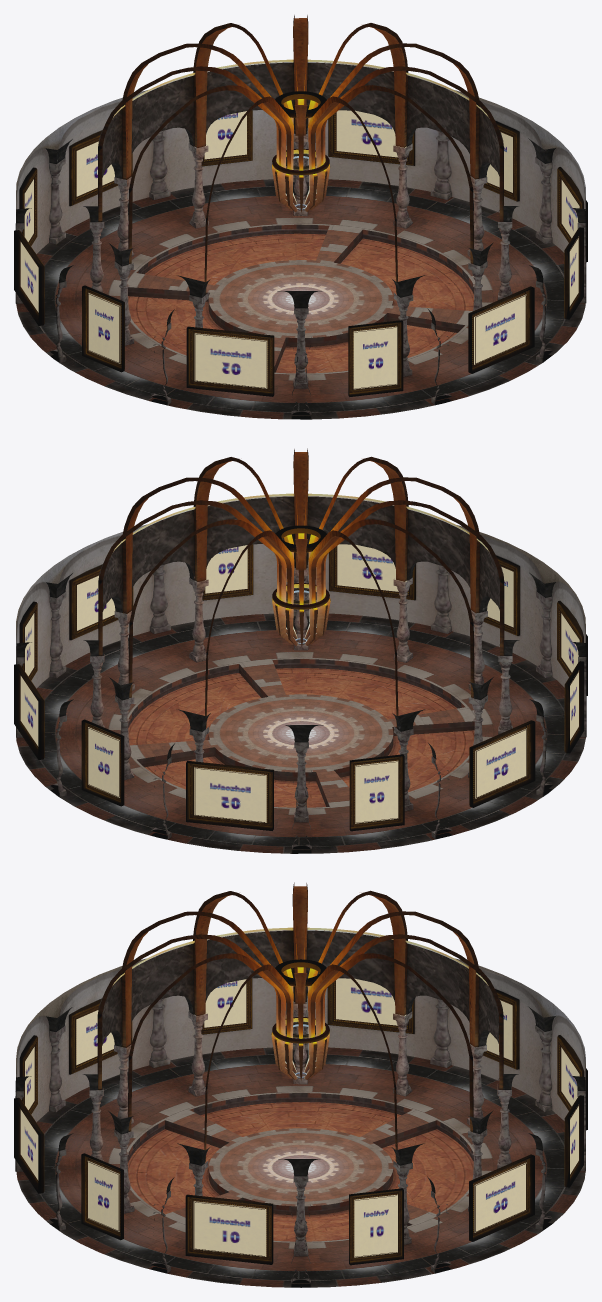
Rendered from vr_gallery_round_baked.glb.
The picture shows the model from 3 angles, top to bottom: view 1: azimuth 30°, elevation 25°; view 2: azimuth 150°, elevation 25°; view 3: azimuth 270°, elevation 25°; orthographic projection.
Visible parts, largest first — view 1: Floor_Wall_1, Column_Ceiling_0, Picture_Horizontal_2, Picture_Vertical_3, Rings_4; view 2: Floor_Wall_1, Column_Ceiling_0, Picture_Horizontal_2, Picture_Vertical_3, Rings_4; view 3: Floor_Wall_1, Column_Ceiling_0, Picture_Horizontal_2, Picture_Vertical_3, Rings_4.
Part boxes in pixels (bbox=[...]): Floor_Wall_1: bbox=[16, 90, 585, 419]; Column_Ceiling_0: bbox=[15, 15, 586, 414]; Picture_Horizontal_2: bbox=[14, 110, 587, 396]; Picture_Vertical_3: bbox=[19, 110, 583, 396]; Rings_4: bbox=[272, 91, 329, 209]; Floor_Wall_1: bbox=[16, 524, 585, 853]; Column_Ceiling_0: bbox=[16, 448, 586, 848]; Picture_Horizontal_2: bbox=[14, 544, 587, 830]; Picture_Vertical_3: bbox=[19, 544, 584, 831]; Rings_4: bbox=[272, 525, 329, 643]; Floor_Wall_1: bbox=[16, 958, 585, 1287]; Column_Ceiling_0: bbox=[15, 882, 585, 1282]; Picture_Horizontal_2: bbox=[14, 978, 587, 1264]; Picture_Vertical_3: bbox=[19, 978, 583, 1265]; Rings_4: bbox=[272, 959, 329, 1077].
Size of the model in its own units: 17.18 by 8.09 by 17.2.
Materials: 16 (16 with a texture image).
